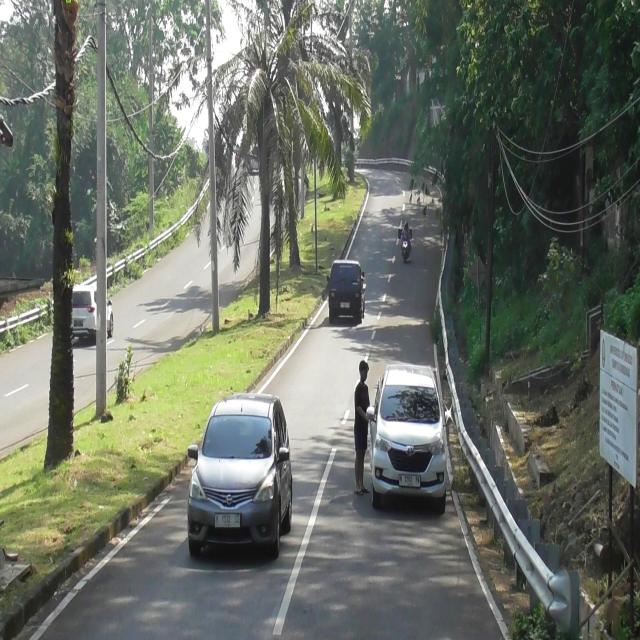motorcycle: (402, 235, 409, 262)
person: (403, 219, 411, 237)
rider_region: (399, 217, 414, 264)
